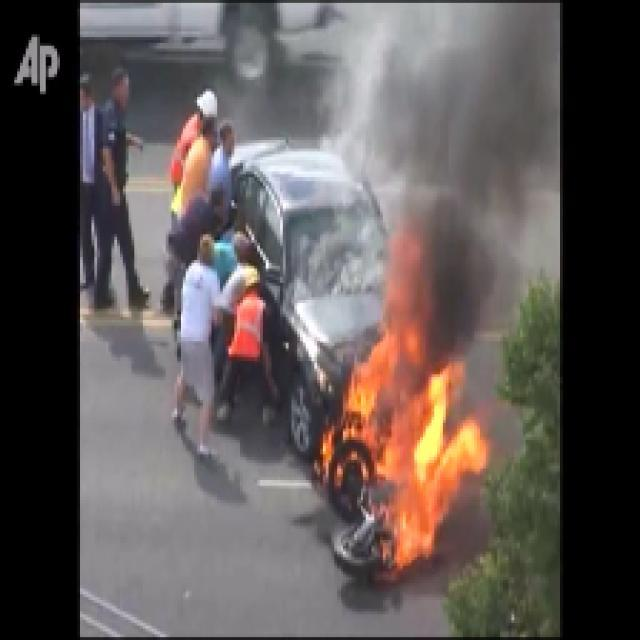Fire: (308, 254, 494, 577)
Smoke: (322, 0, 554, 314)
